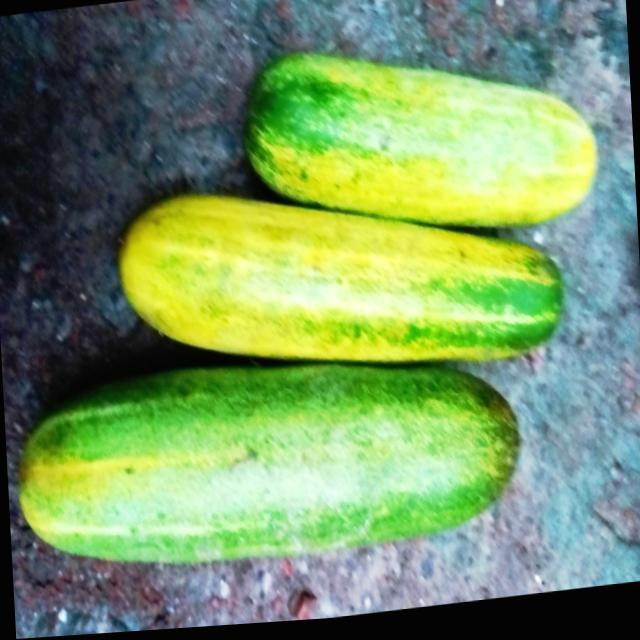Fresh-Cucumber: (6, 335, 528, 595), (114, 154, 569, 411), (238, 22, 602, 267)
